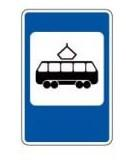road_sign: (18, 3, 117, 149)
